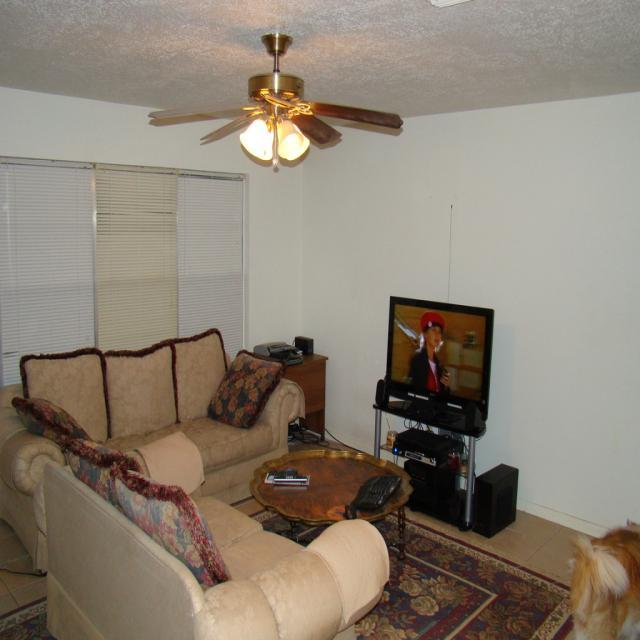fan_off: (152, 34, 412, 163)
